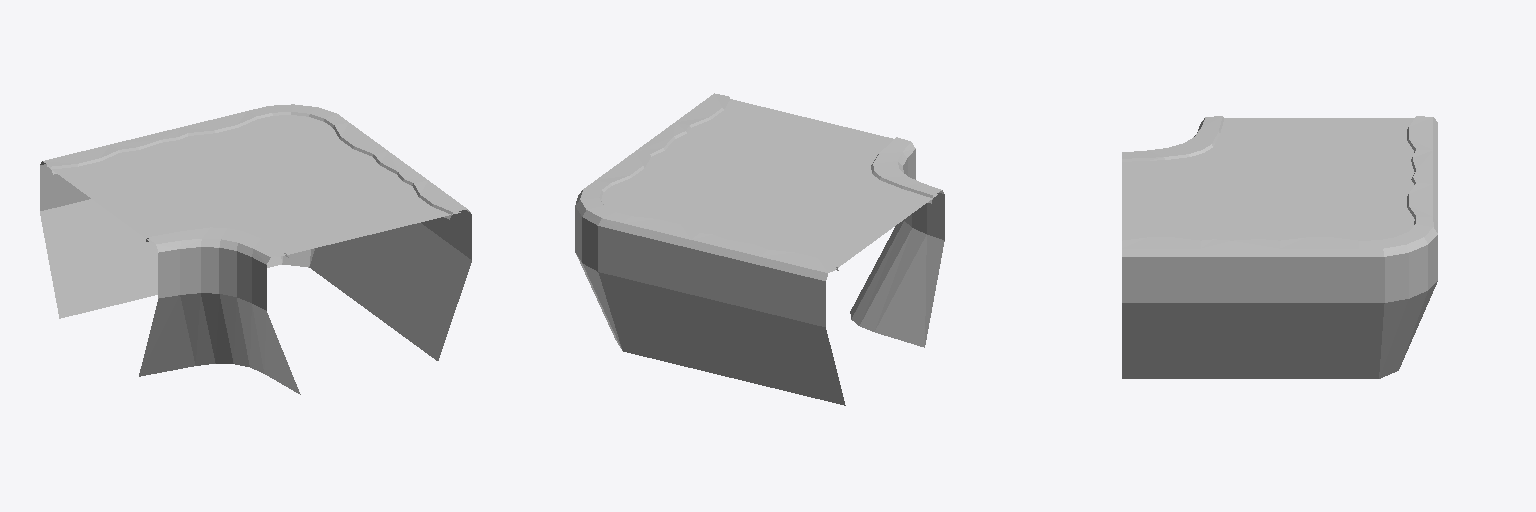
Rendered from module_corner_convex_d.obj.
3 renders of one model, left to right at view 1: azimuth 30°, elevation 25°; view 2: azimuth 150°, elevation 25°; view 3: azimuth 270°, elevation 25°, orthographic.
Visible parts, largest first — view 1: module_corner_convex_d; view 2: module_corner_convex_d; view 3: module_corner_convex_d.
Part boxes in pixels (bbox=[...]): module_corner_convex_d: bbox=[40, 104, 471, 394]; module_corner_convex_d: bbox=[575, 93, 944, 405]; module_corner_convex_d: bbox=[1122, 116, 1437, 378].
Size of the model in its own units: 800 by 406 by 800.